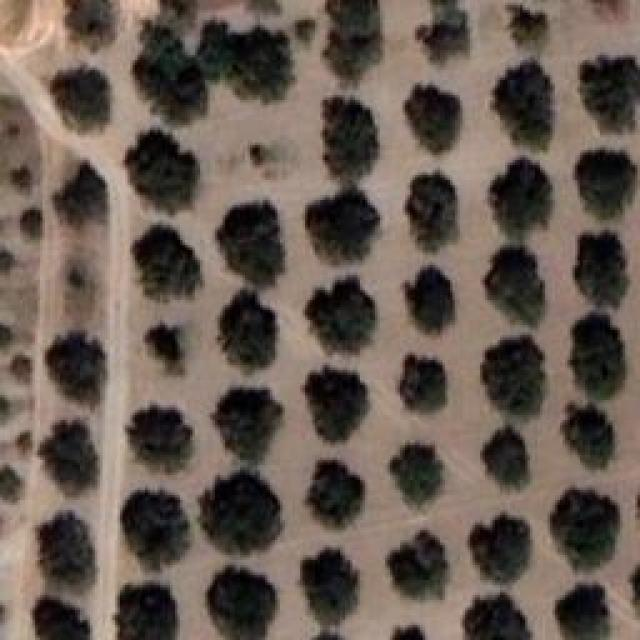Tree: (203, 15, 295, 103), (200, 470, 284, 555), (135, 30, 209, 126), (215, 198, 287, 289), (315, 93, 382, 189), (125, 130, 200, 213), (210, 384, 288, 462), (305, 188, 380, 264), (573, 144, 640, 226), (133, 225, 204, 302), (305, 278, 376, 354), (550, 488, 619, 566), (208, 565, 279, 640), (495, 60, 554, 150), (43, 331, 110, 408), (568, 318, 633, 396), (575, 53, 639, 132), (218, 292, 278, 376), (35, 515, 102, 589), (483, 335, 544, 416), (305, 365, 369, 442), (490, 158, 553, 236), (485, 243, 545, 323), (302, 548, 360, 626), (470, 515, 533, 585), (130, 405, 194, 473), (43, 420, 103, 492), (50, 65, 110, 137), (408, 175, 462, 255), (400, 82, 459, 154), (388, 530, 449, 598), (562, 404, 619, 472), (308, 460, 364, 527), (578, 233, 626, 308), (58, 160, 110, 228), (405, 265, 456, 333), (553, 583, 613, 640), (463, 592, 532, 640), (117, 585, 175, 640), (390, 445, 443, 505), (482, 428, 530, 490), (323, 35, 382, 85), (28, 595, 93, 640), (400, 355, 448, 413), (65, 3, 121, 51), (503, 3, 553, 54), (418, 23, 470, 63), (325, 0, 380, 35), (145, 328, 183, 375), (245, 0, 292, 22), (0, 465, 23, 507), (243, 135, 270, 169), (293, 13, 319, 48), (427, 0, 470, 21), (15, 208, 40, 243), (155, 0, 202, 17), (10, 358, 35, 386), (388, 622, 423, 640), (0, 245, 18, 276), (632, 563, 640, 623), (12, 165, 32, 188), (18, 433, 37, 455), (0, 323, 13, 350), (0, 395, 10, 423)
